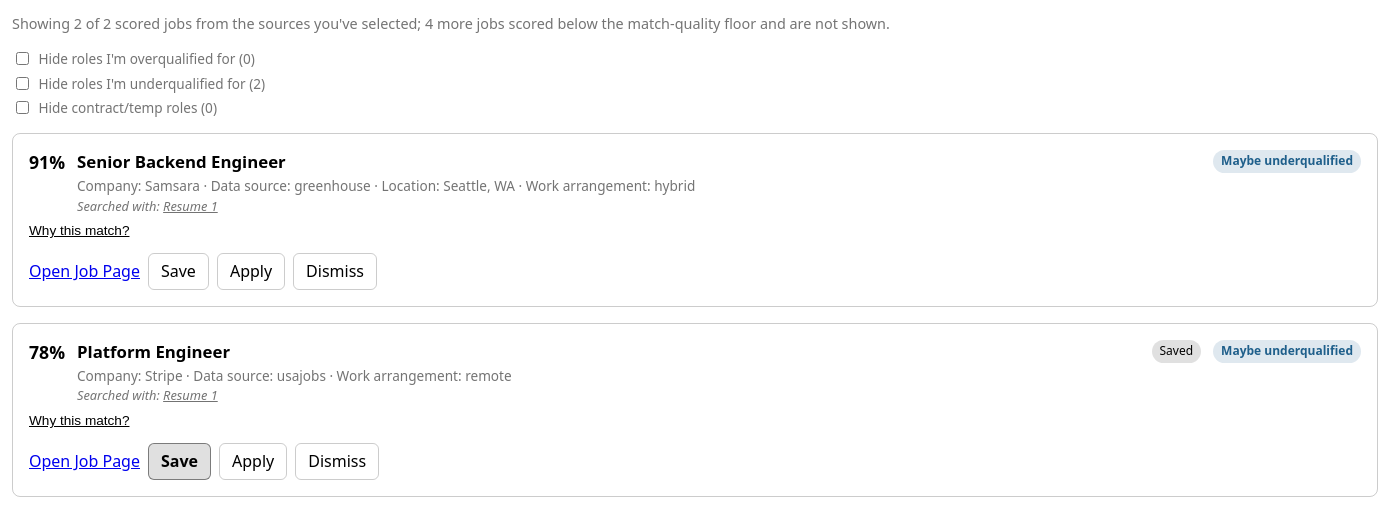
Scenario: ResultsList — "Hide roles I'm underqualified for" filter (ticket a340074) › shows an underqualified-filter-specific empty state when every source-visible job is underqualified and the checkbox is checked
The image size is (1378, 514).
Step 1. Click the checkbox labelled "Hide roles I'm underqualified for (2)" → coordinates (22, 83), box [16,77,29,90]
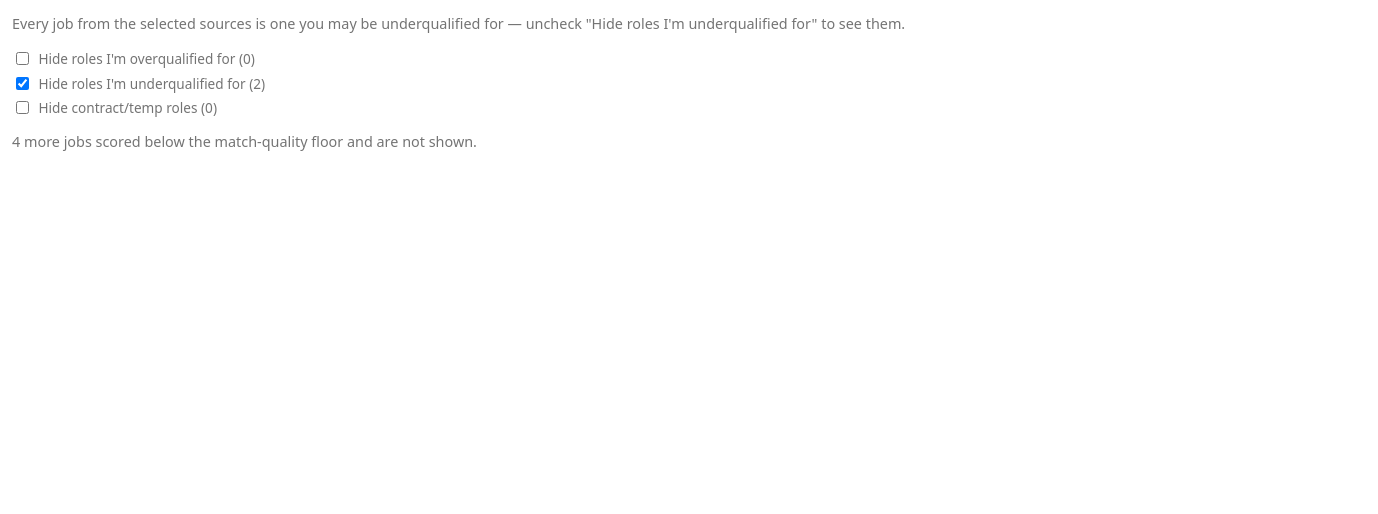
Result: the heading "Senior Backend Engineer" is gone
Result: the heading "Platform Engineer" is gone
Result: the text "Every job from the selected sources is one you may be underqualified for — uncheck \"Hide roles I'm underqualified for\" t" is shown at [12,14,905,33]
